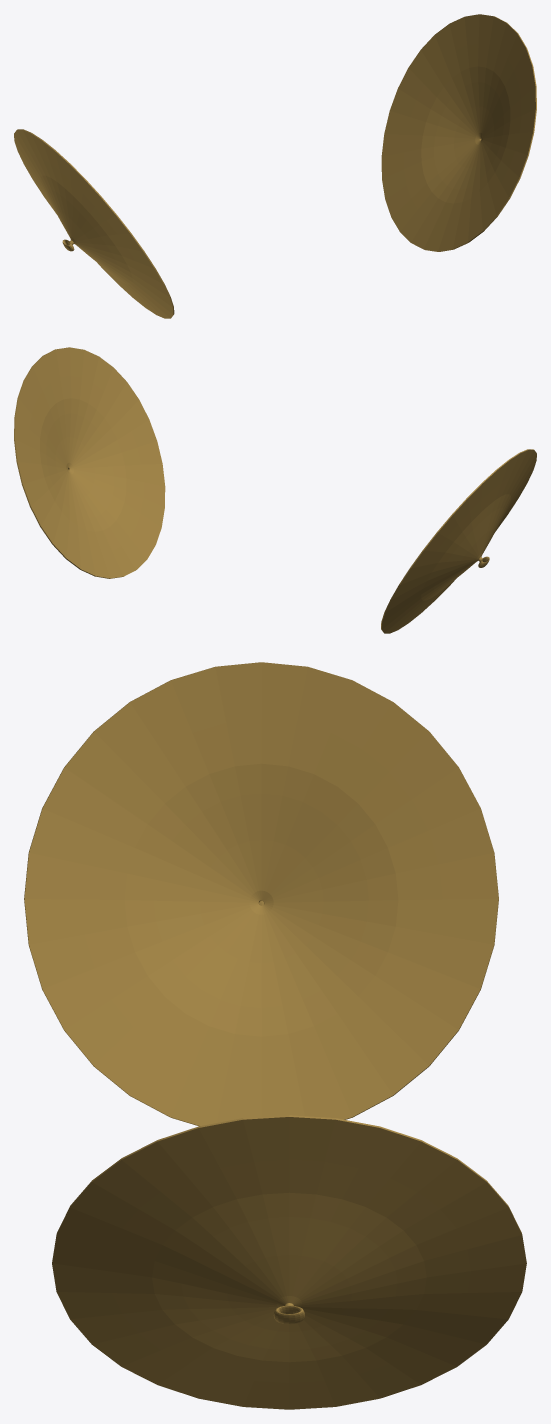
File: Cymbals.fbx
3 renders of one model, top to bottom at view 1: azimuth 30°, elevation 25°; view 2: azimuth 150°, elevation 25°; view 3: azimuth 270°, elevation 25°, orthographic. The views are drawn at different scales.
Visible parts, largest first — view 1: Circle.001, Circle; view 2: Circle.001, Circle; view 3: Circle, Circle.001.
Part boxes in pixels (left/top/right/bottom): Circle.001: left=381, top=14, right=536, bottom=251; Circle: left=14, top=129, right=174, bottom=318; Circle.001: left=14, top=347, right=165, bottom=578; Circle: left=381, top=449, right=536, bottom=633; Circle: left=24, top=662, right=498, bottom=1126; Circle.001: left=52, top=1115, right=526, bottom=1409.
Size of the model in its own units: 112 by 45.29 by 52.91.
